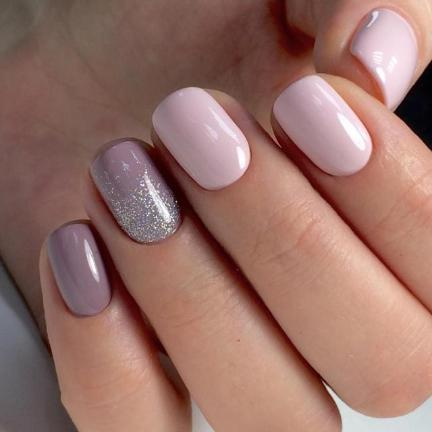Nail: (152, 87, 251, 191), (273, 75, 373, 176), (90, 140, 183, 245), (349, 8, 418, 110), (45, 223, 111, 317)
